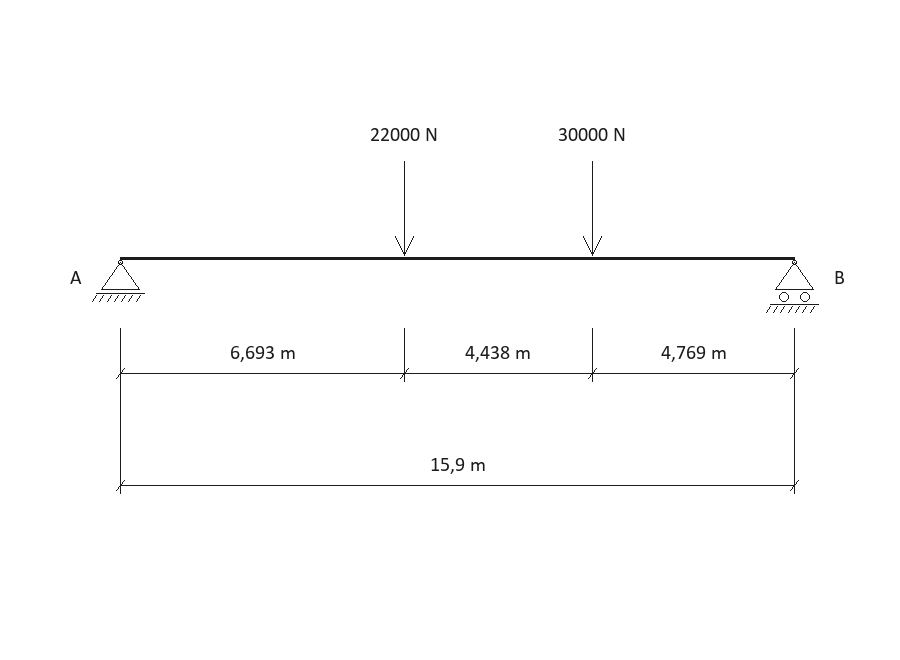pin_support: (92, 260, 145, 302)
point_load: (395, 161, 414, 256), (583, 161, 602, 256)
roller_support: (766, 260, 819, 313)
